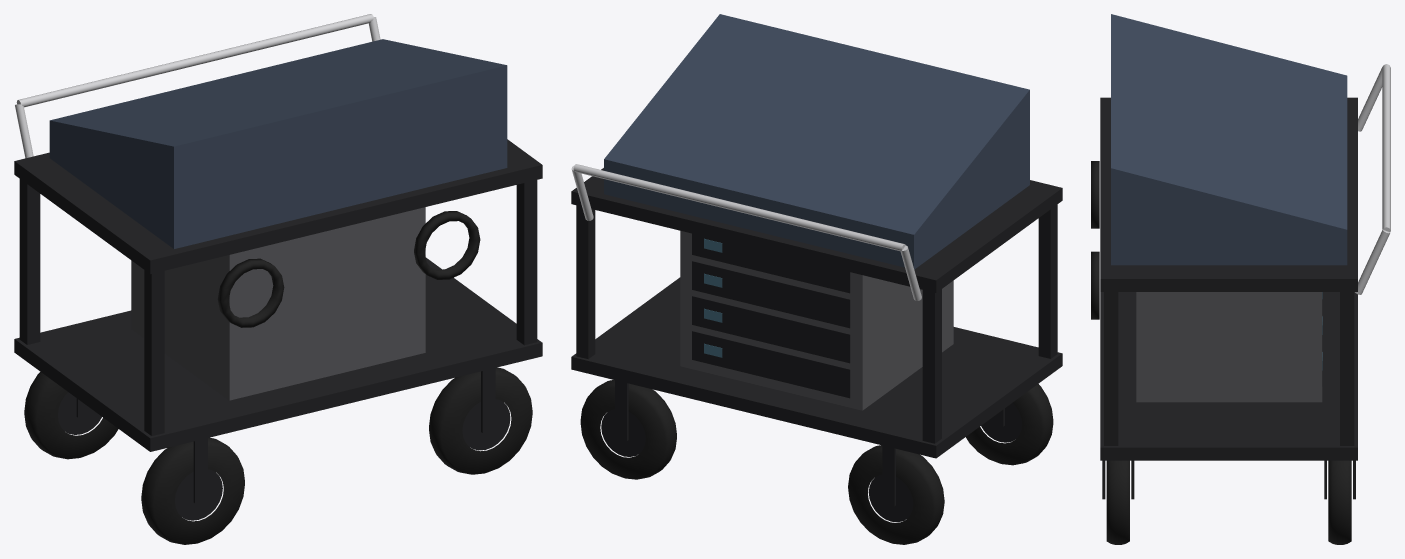
The model's file is mixer-cart-covered.glb.
3 views of the same model, side by side, from view 1: azimuth 30°, elevation 25°; view 2: azimuth 150°, elevation 25°; view 3: azimuth 270°, elevation 25° (orthographic). The views are drawn at different scales.
Visible parts, largest first — view 1: cover, frame, panel, rubber, metal; view 2: cover, frame, panel, rubber, metal, screen; view 3: cover, frame, panel, rubber, metal.
Boxes of the visible parts, <box> form: cover: <box>49,39,507,248</box>; frame: <box>14,139,542,520</box>; panel: <box>131,207,425,400</box>; rubber: <box>24,211,532,544</box>; metal: <box>15,14,380,158</box>; cover: <box>604,14,1029,269</box>; frame: <box>571,168,1062,522</box>; panel: <box>680,231,953,410</box>; rubber: <box>580,380,1053,544</box>; metal: <box>571,164,921,300</box>; screen: <box>704,238,722,357</box>; cover: <box>1111,14,1347,265</box>; frame: <box>1100,97,1357,499</box>; panel: <box>1136,292,1322,402</box>; rubber: <box>1091,161,1351,544</box>; metal: <box>1355,64,1390,294</box>.
Bounding box in the file's own units: 1.2 × 1.18 × 0.838.
